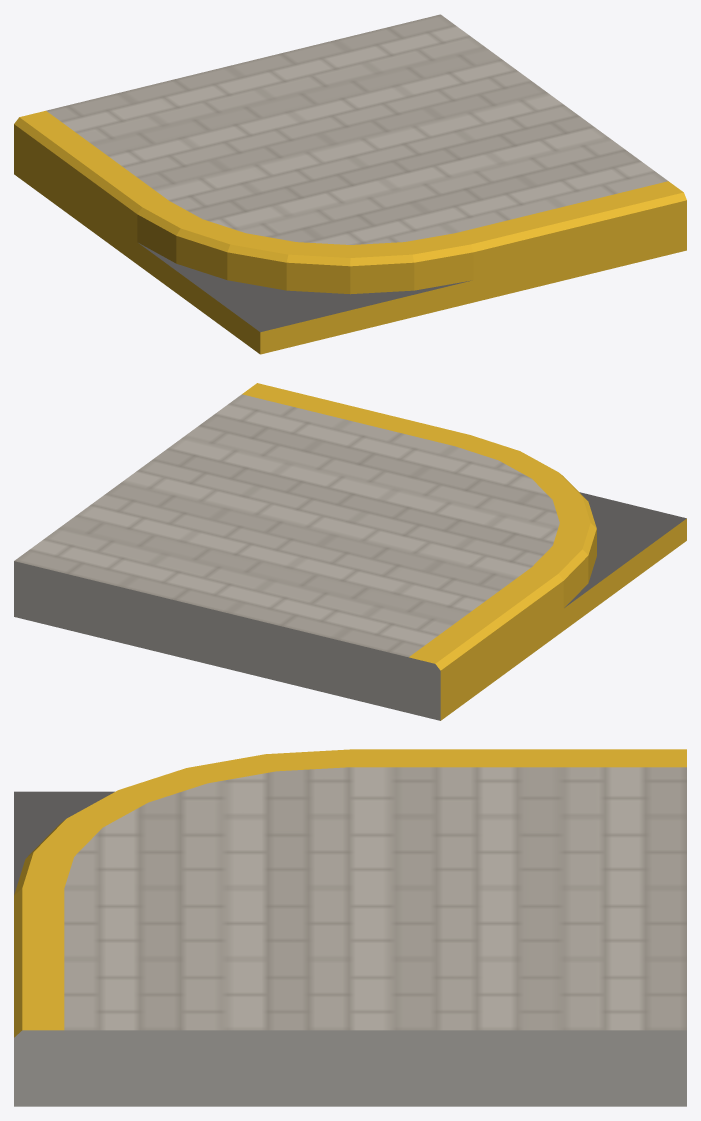
The model's file is SM_Ground_SidewalkCorner_200_R100_L_Yellow_01.fbx.
3 views of the same model, one above another, from view 1: azimuth 30°, elevation 25°; view 2: azimuth 150°, elevation 25°; view 3: azimuth 270°, elevation 25° (orthographic). The views are drawn at different scales.
Parts seen in each view (by area): view 1: SM_Ground_SidewalkCorner_200_R100_L_Yellow_01; view 2: SM_Ground_SidewalkCorner_200_R100_L_Yellow_01; view 3: SM_Ground_SidewalkCorner_200_R100_L_Yellow_01.
Part boxes in pixels (left/top/right/bottom): SM_Ground_SidewalkCorner_200_R100_L_Yellow_01: left=14, top=14, right=686, bottom=354; SM_Ground_SidewalkCorner_200_R100_L_Yellow_01: left=14, top=383, right=686, bottom=720; SM_Ground_SidewalkCorner_200_R100_L_Yellow_01: left=14, top=749, right=686, bottom=1106.
Size of the model in its own units: 2 by 0.25 by 2.
Materials: 1 (1 with a texture image).
